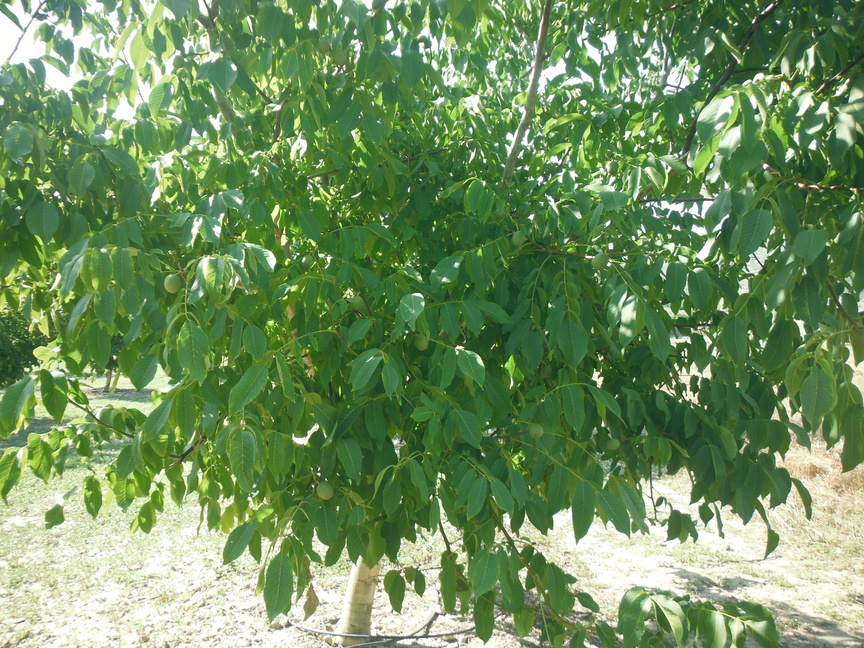walnut: (159, 268, 188, 299), (588, 246, 614, 274), (327, 47, 356, 68), (506, 226, 530, 251), (314, 478, 339, 502), (313, 31, 335, 57), (526, 419, 548, 443), (349, 291, 370, 316), (411, 331, 433, 354), (297, 251, 319, 273), (602, 156, 621, 180), (602, 435, 624, 455), (538, 360, 556, 383), (491, 204, 509, 223), (422, 34, 437, 52), (415, 30, 429, 46)
